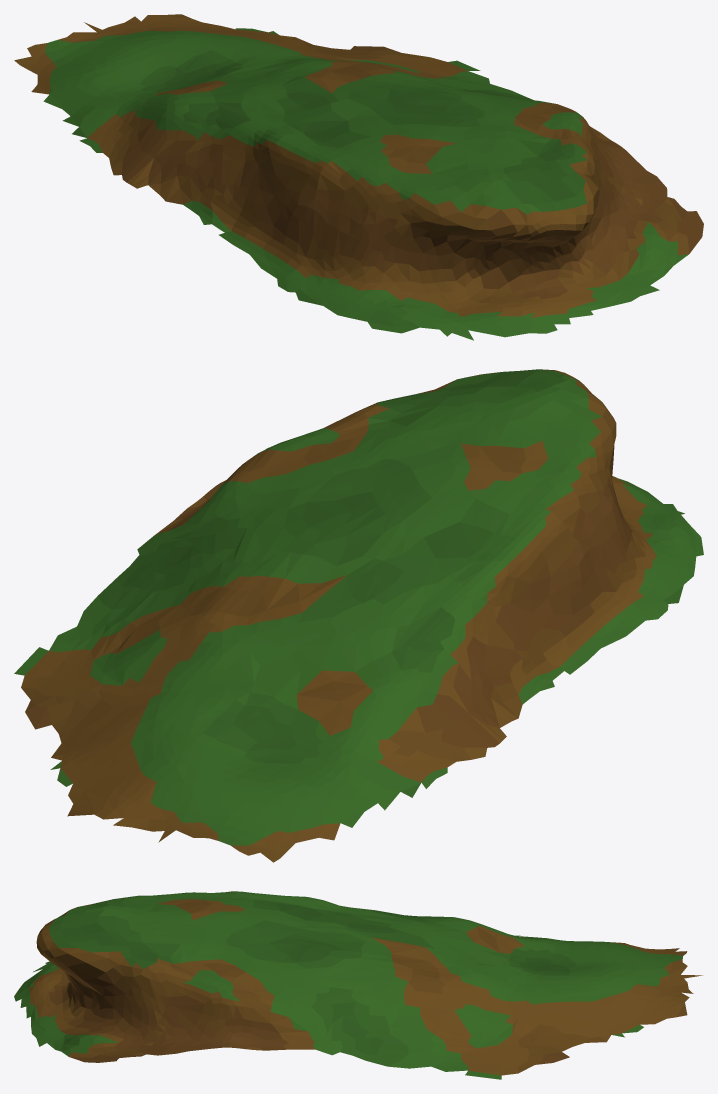
Rendered from mala_gurka.fbx.
3 renders of one model, top to bottom at view 1: azimuth 30°, elevation 25°; view 2: azimuth 150°, elevation 25°; view 3: azimuth 270°, elevation 25°, orthographic. The views are drawn at different scales.
Parts seen in each view (by area): view 1: zielone 2.001; view 2: zielone 2.001; view 3: zielone 2.001.
Boxes of the visible parts, x1=… form: zielone 2.001: x1=14, y1=14, x2=703, y2=340; zielone 2.001: x1=14, y1=369, x2=703, y2=862; zielone 2.001: x1=14, y1=891, x2=702, y2=1079.
Bounding box in the file's own units: 801 × 229 × 1580.
